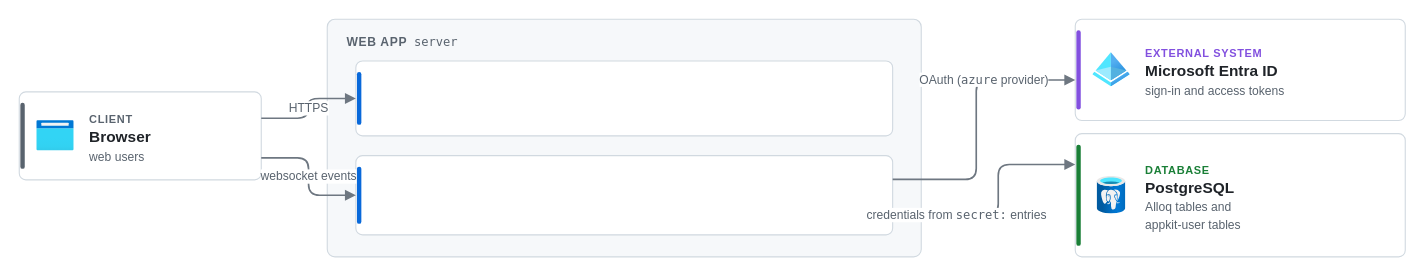
Image size: 1425x276. Some labels were removed from this diagram. The centre of each missing label's shape, as x and y in pixels:
CONTAINER · PYTHON Reflex backend app/app.py · backend_port: 3030 · workers: 2: point 624,195
CONTAINER · REACT Compiled frontend served below /alloq ( frontend_path ): point 624,98
